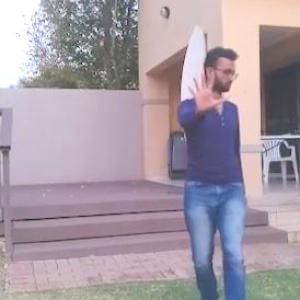follow_hand: (182, 64, 229, 118)
